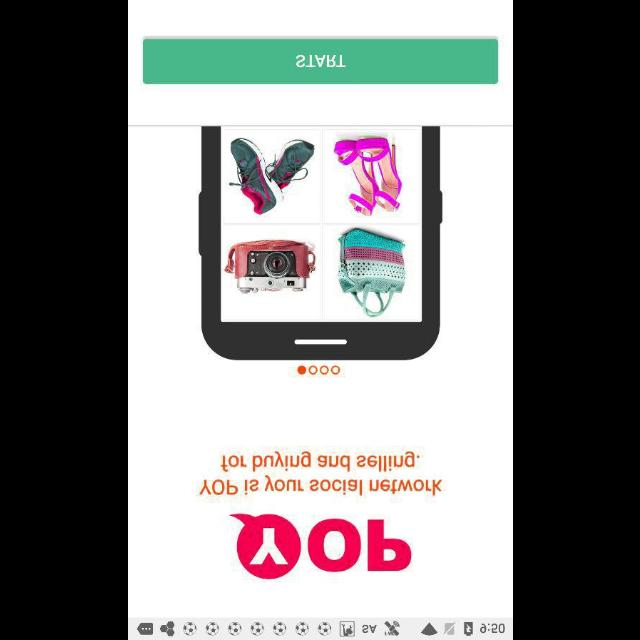image: (198, 126, 442, 360), (229, 513, 411, 579)
pageindicator: (297, 365, 341, 375)
text: (198, 450, 442, 496)
textbutton: (143, 40, 497, 84)
uppertaskbar: (128, 617, 512, 639)
